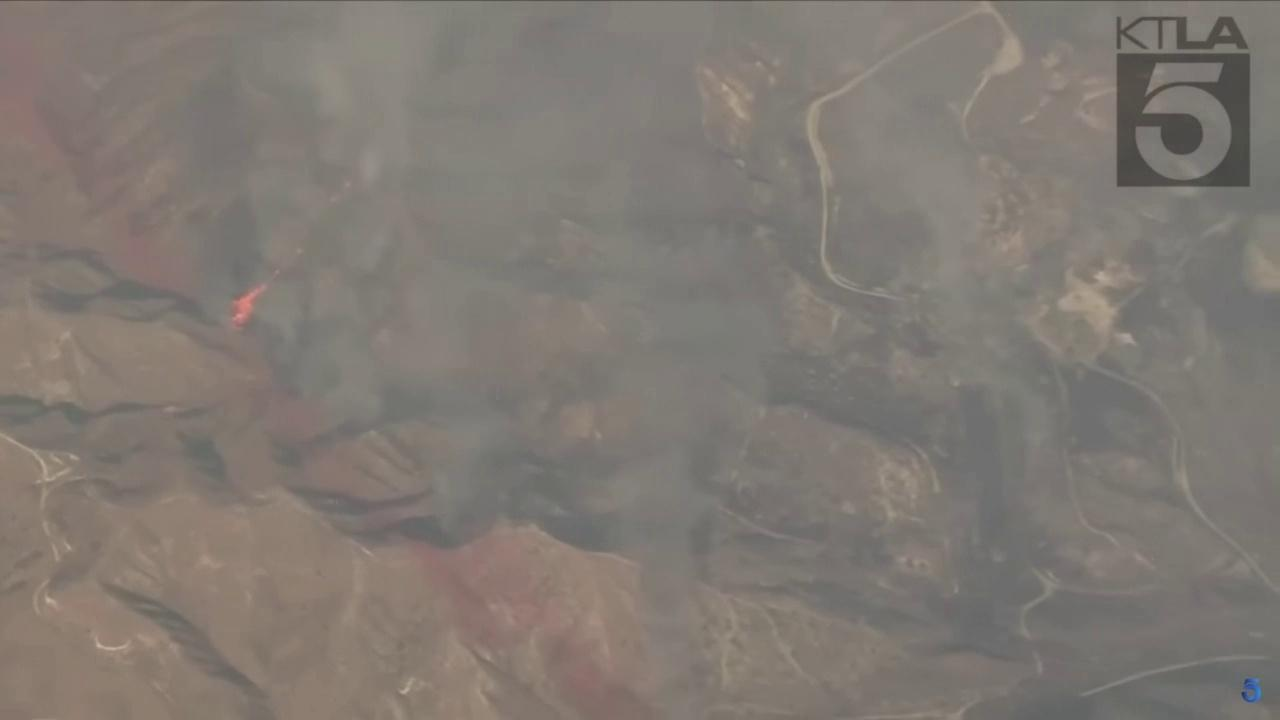fire: (225, 279, 270, 335)
smoke: (177, 0, 785, 720)
